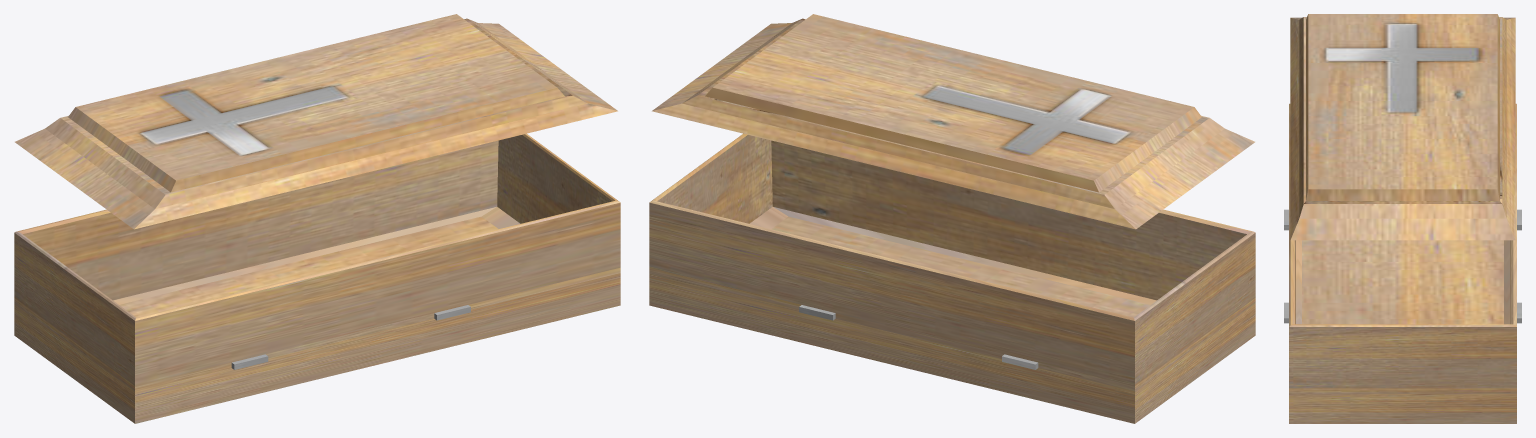
Rendered from Caixao.fbx.
3 views of the same model, side by side, from view 1: azimuth 30°, elevation 25°; view 2: azimuth 150°, elevation 25°; view 3: azimuth 270°, elevation 25° (orthographic). The views are drawn at different scales.
Parts seen in each view (by area): view 1: Cube.002, Cube.001; view 2: Cube.002, Cube.001; view 3: Cube.001, Cube.002.
Boxes of the visible parts, <box> form: Cube.002: <box>14,133,620,423</box>; Cube.001: <box>15,14,617,229</box>; Cube.002: <box>649,133,1255,423</box>; Cube.001: <box>652,14,1254,229</box>; Cube.001: <box>1290,14,1515,240</box>; Cube.002: <box>1284,103,1521,423</box>.
Bounding box in the file's own units: 215 × 94.52 × 96.9.
